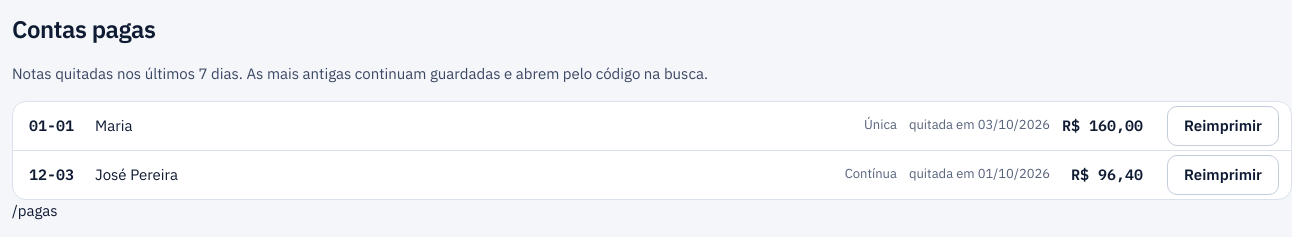
Test: TelaPagas › clicar na linha abre a gaveta da nota, sem imprimir
Click the button "12-03 José Pereira Contínua quitada em 01/10/2026 R$ 96,40". click: (52, 174)
box: [13, 150, 1159, 198]
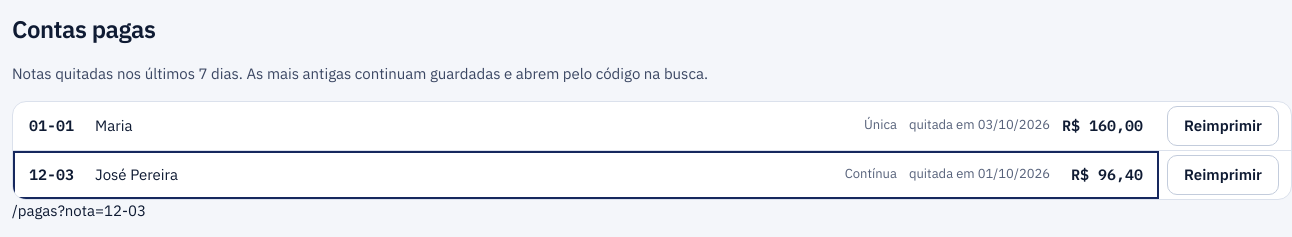
Now the text with test id "local" reads "/pagas?nota=12-03", box [12, 200, 146, 220]
